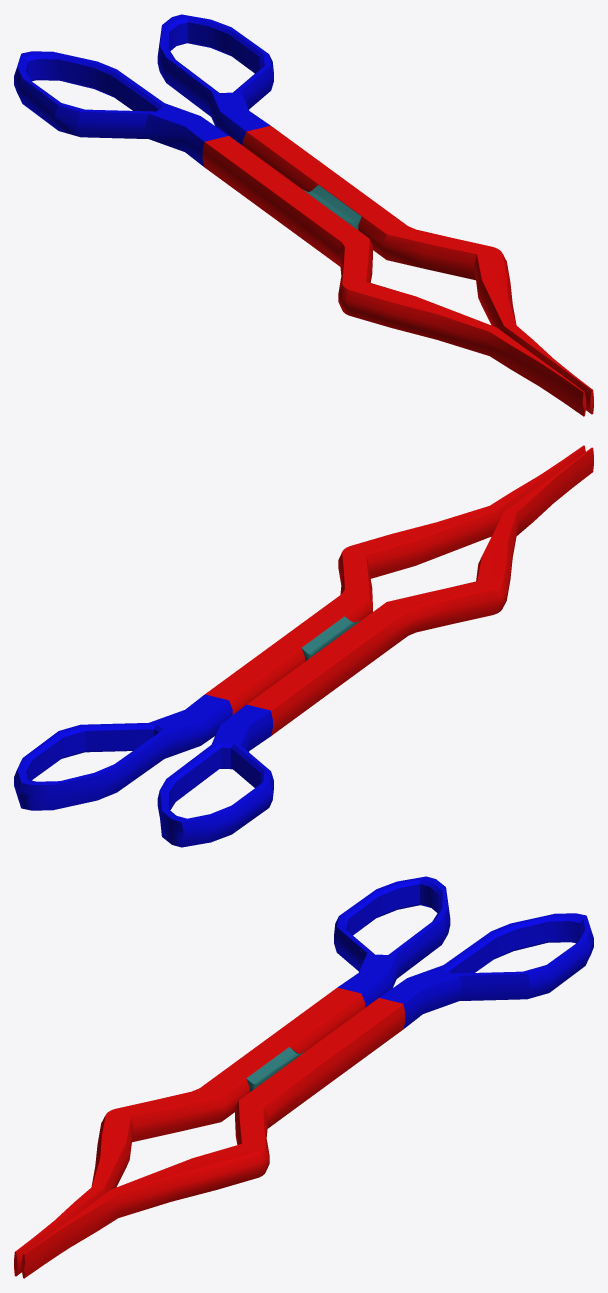
File: Tweezers.fbx
3 views of the same model, one above another, from view 1: azimuth 30°, elevation 25°; view 2: azimuth 150°, elevation 25°; view 3: azimuth 330°, elevation 25° (orthographic).
Visible parts, largest first — view 1: Tweezers; view 2: Tweezers; view 3: Tweezers.
Boxes of the visible parts, x1=… form: Tweezers: x1=14, y1=14, x2=593, y2=416; Tweezers: x1=14, y1=445, x2=593, y2=847; Tweezers: x1=14, y1=876, x2=593, y2=1278.
Size of the model in its own units: 31.48 by 3.6 by 122.
